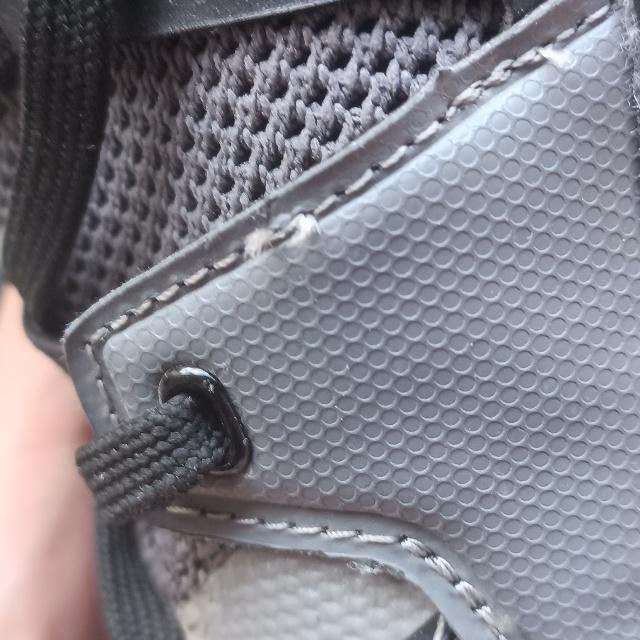broken-error: (240, 210, 328, 266)
